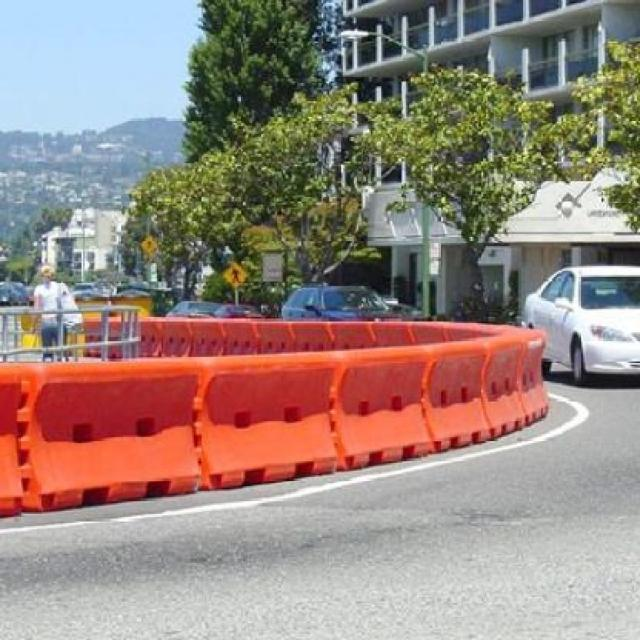fallen_object: (2, 346, 208, 510), (149, 333, 340, 482), (322, 342, 542, 457), (99, 313, 514, 365)
